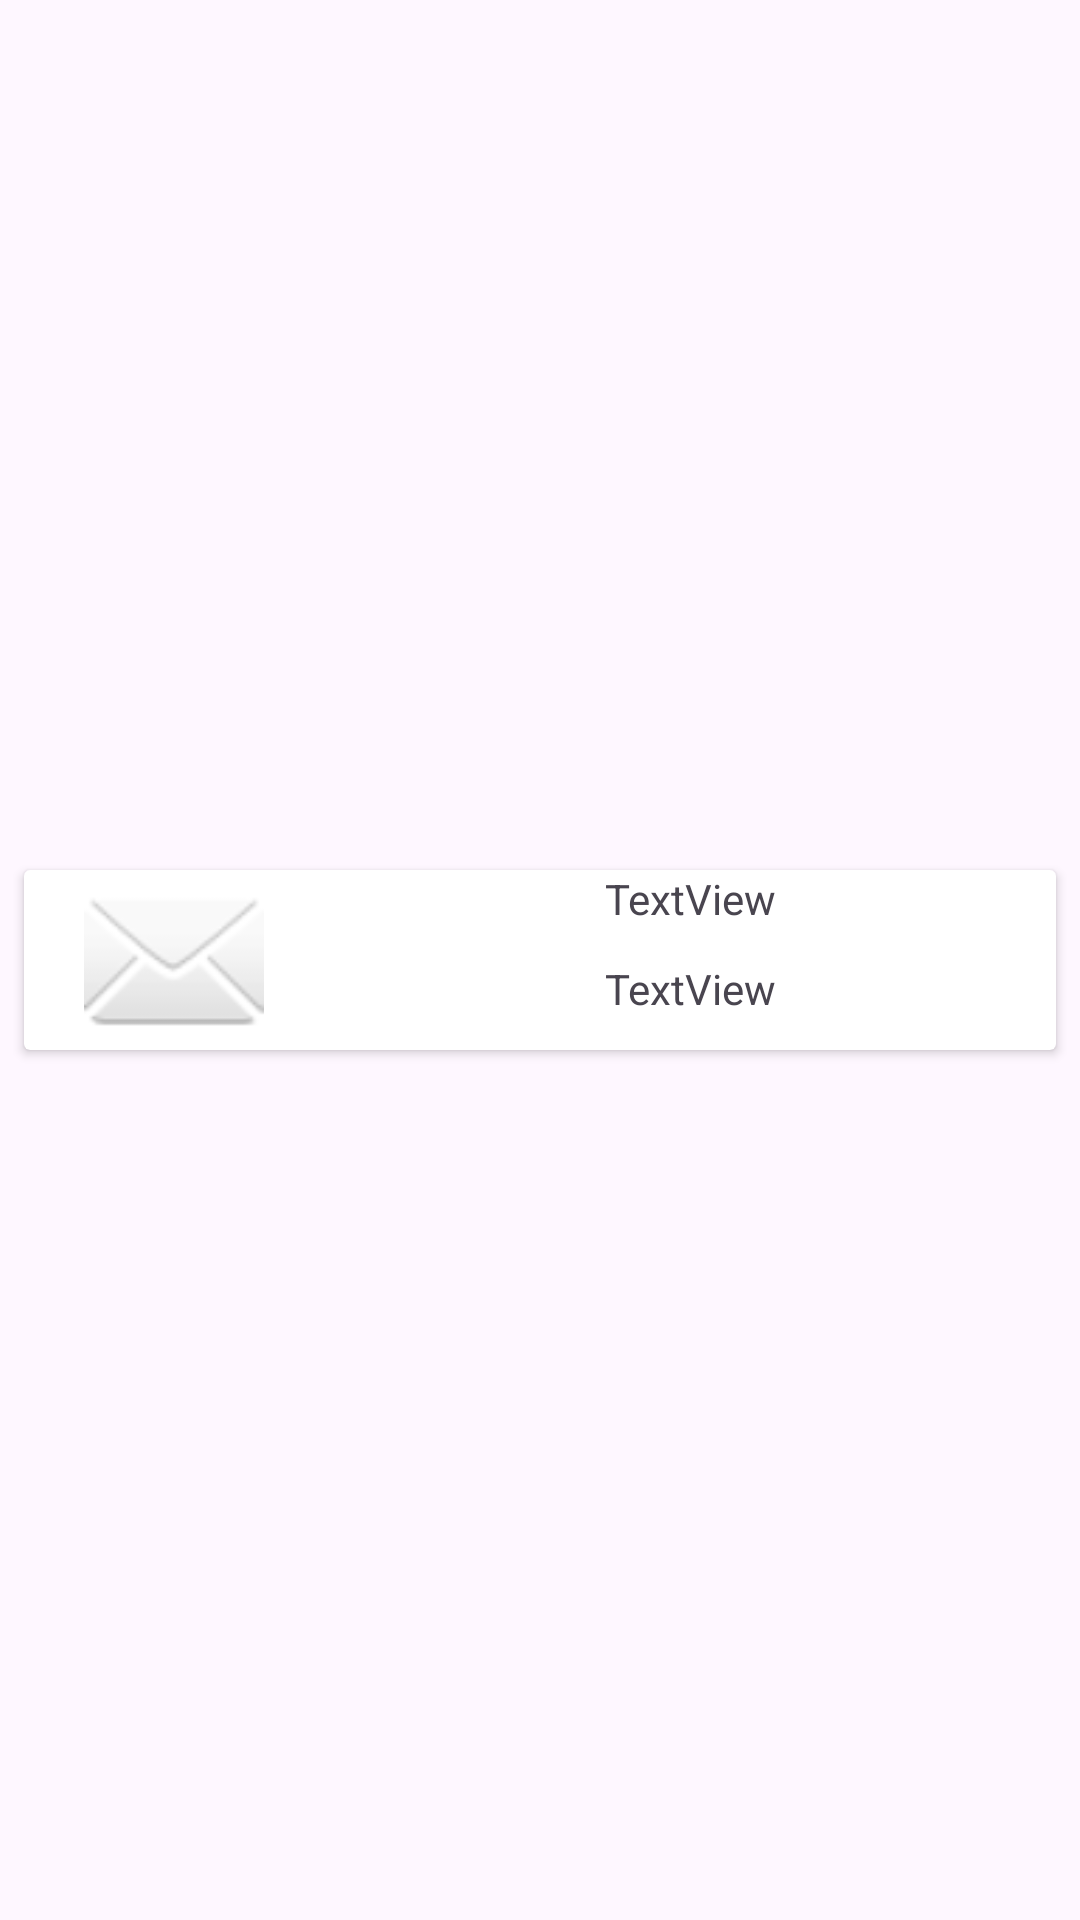

Point at icon controls on the screen. Image size 1080×1920, points as [x,y].
email: [174,960]
